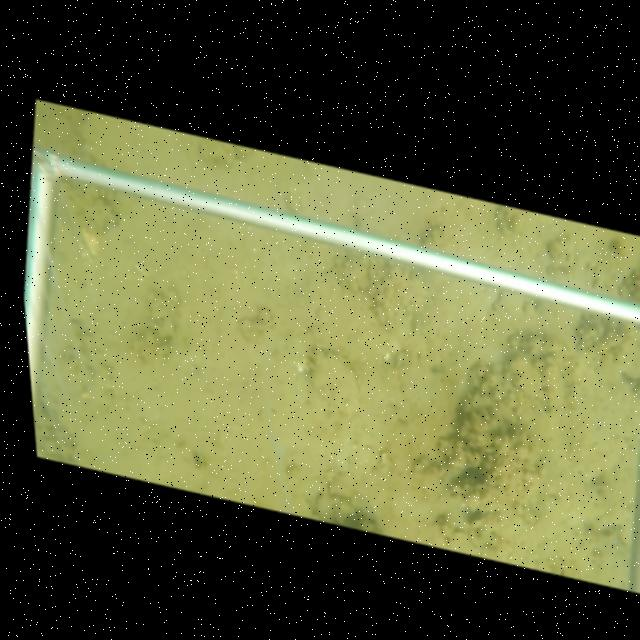Oyster-Indeterminate: (307, 346, 362, 418)
